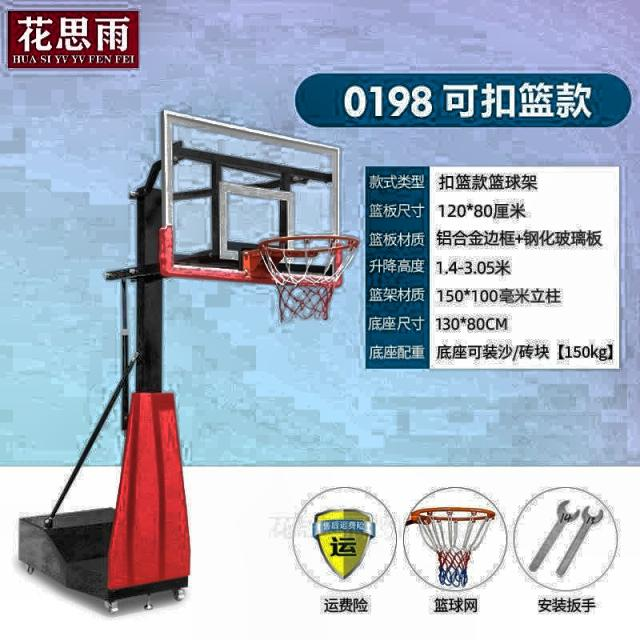rim: (264, 233, 361, 320)
